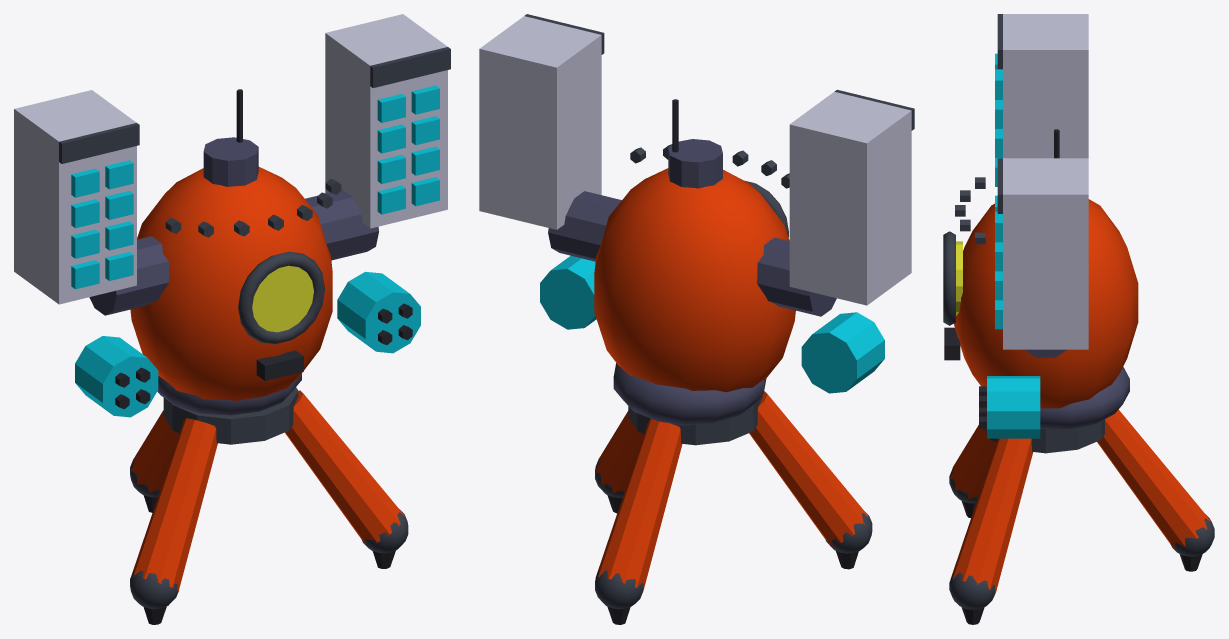
Rendered from Enemy_probe.fbx.
3 views of the same model, side by side, from view 1: azimuth 30°, elevation 25°; view 2: azimuth 150°, elevation 25°; view 3: azimuth 270°, elevation 25° (orthographic). The views are drawn at different scales.
Visible parts, largest first — view 1: Enemy_probe; view 2: Enemy_probe; view 3: Enemy_probe.
Part boxes in pixels (x1,y1,x2,y2): Enemy_probe: [14, 14, 450, 624]; Enemy_probe: [479, 14, 914, 624]; Enemy_probe: [943, 14, 1214, 624].
Size of the model in its own units: 0.8 by 0.96 by 0.5085.
